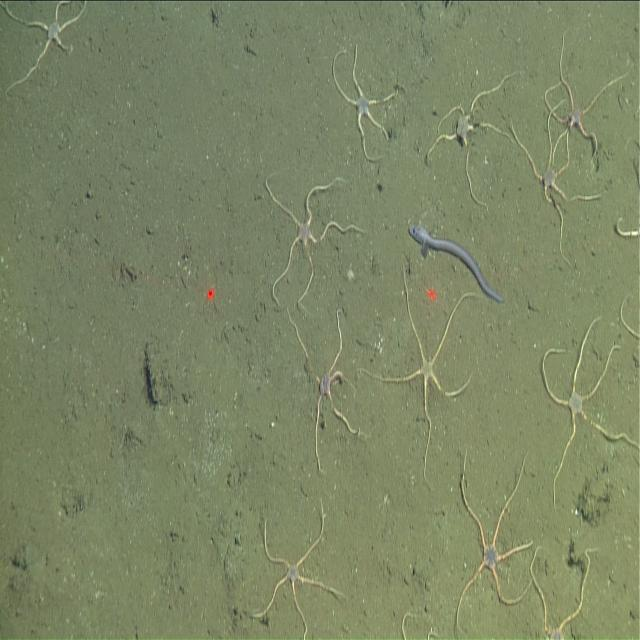Brittle Star: (362, 266, 489, 468), (538, 314, 635, 498), (449, 446, 537, 634), (247, 493, 347, 638), (424, 60, 520, 207), (283, 302, 366, 471), (262, 166, 361, 306), (505, 118, 603, 245), (328, 38, 402, 162), (1, 0, 90, 100)
Not Brittle Star: (405, 217, 507, 310)
